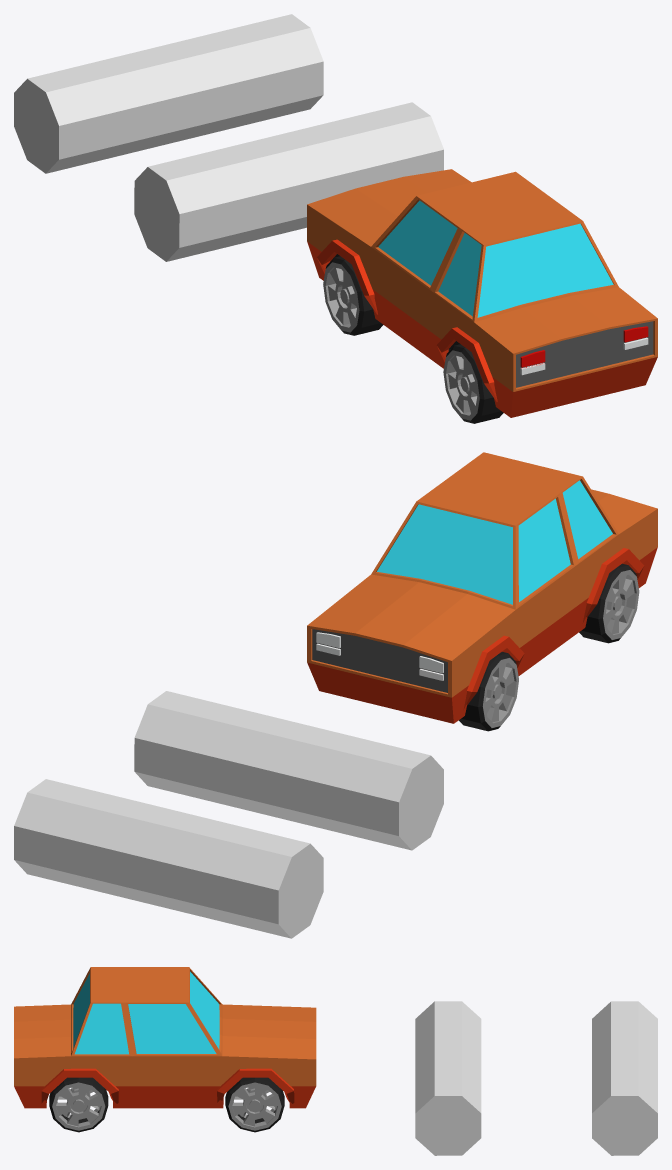
File: BlueCar.fbx
3 views of the same model, one above another, from view 1: azimuth 30°, elevation 25°; view 2: azimuth 150°, elevation 25°; view 3: azimuth 270°, elevation 25° (orthographic). The views are drawn at different scales.
Parts seen in each view (by area): view 1: Cylinder, Cube, Wheel.003, Wheel.002, Cylinder.001, Cylinder.002, Cube.002; view 2: Cylinder, Cube, Wheel.002, Wheel.003, Cylinder.002, Cylinder.001, Cube.001; view 3: Cube, Cylinder, Wheel.004, Wheel.001, Cylinder.002, Cylinder.001.
Part boxes in pixels (bbox=[...]): Cylinder: bbox=[14, 14, 443, 261]; Cube: bbox=[307, 169, 657, 417]; Wheel.003: bbox=[323, 256, 383, 335]; Wheel.002: bbox=[443, 344, 503, 423]; Cylinder.001: bbox=[317, 239, 377, 314]; Cylinder.002: bbox=[436, 327, 497, 401]; Cube.002: bbox=[520, 326, 648, 375]; Cylinder: bbox=[14, 691, 443, 938]; Cube: bbox=[307, 452, 657, 723]; Wheel.002: bbox=[579, 563, 639, 643]; Wheel.003: bbox=[459, 652, 518, 731]; Cylinder.002: bbox=[582, 548, 644, 623]; Cylinder.001: bbox=[463, 635, 524, 709]; Cube.001: bbox=[316, 632, 443, 680]; Cube: bbox=[14, 967, 316, 1108]; Cylinder: bbox=[415, 1001, 657, 1155]; Wheel.004: bbox=[225, 1077, 284, 1132]; Wheel.001: bbox=[49, 1077, 108, 1132]; Cylinder.002: bbox=[41, 1068, 118, 1103]; Cylinder.001: bbox=[217, 1068, 294, 1103].
Bounding box in the file's own units: 366 × 223 × 1051.
